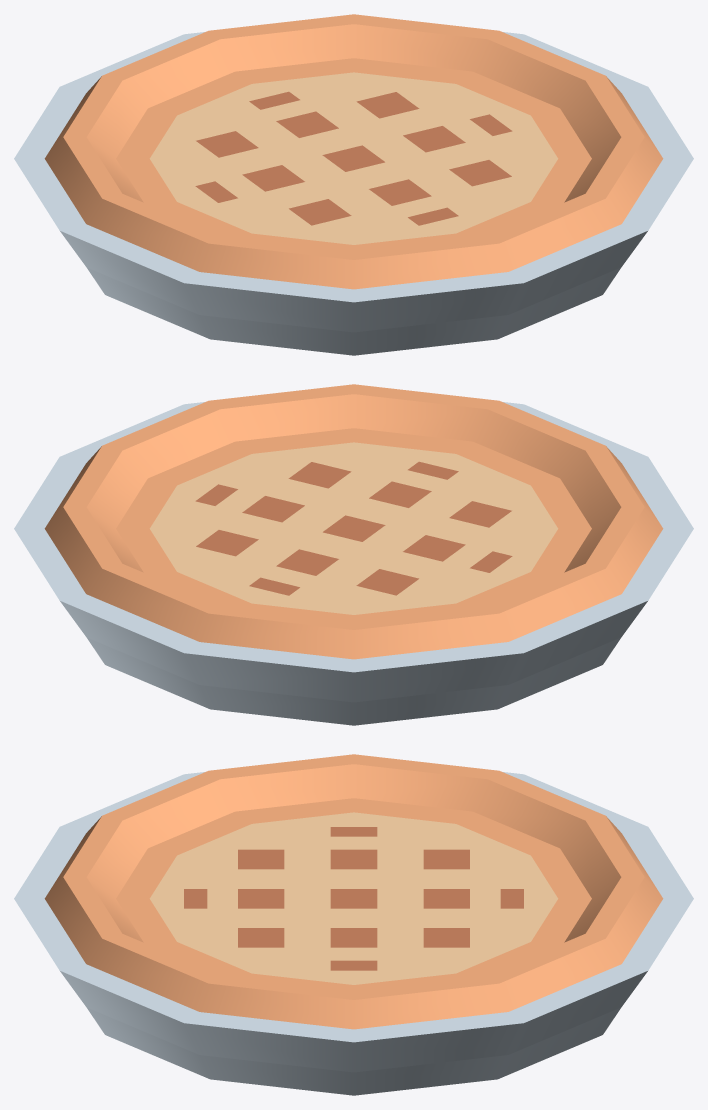
File: Pie.glb
3 views of the same model, one above another, from view 1: azimuth 30°, elevation 25°; view 2: azimuth 150°, elevation 25°; view 3: azimuth 270°, elevation 25° (orthographic).
Visible parts, largest first — view 1: Pie; view 2: Pie; view 3: Pie.
Part boxes in pixels (x1=…): Pie: x1=14, y1=14, x2=693, y2=355; Pie: x1=14, y1=384, x2=693, y2=725; Pie: x1=14, y1=754, x2=693, y2=1095.
Bounding box in the file's own units: 0.9504 × 0.1497 × 0.9504.
